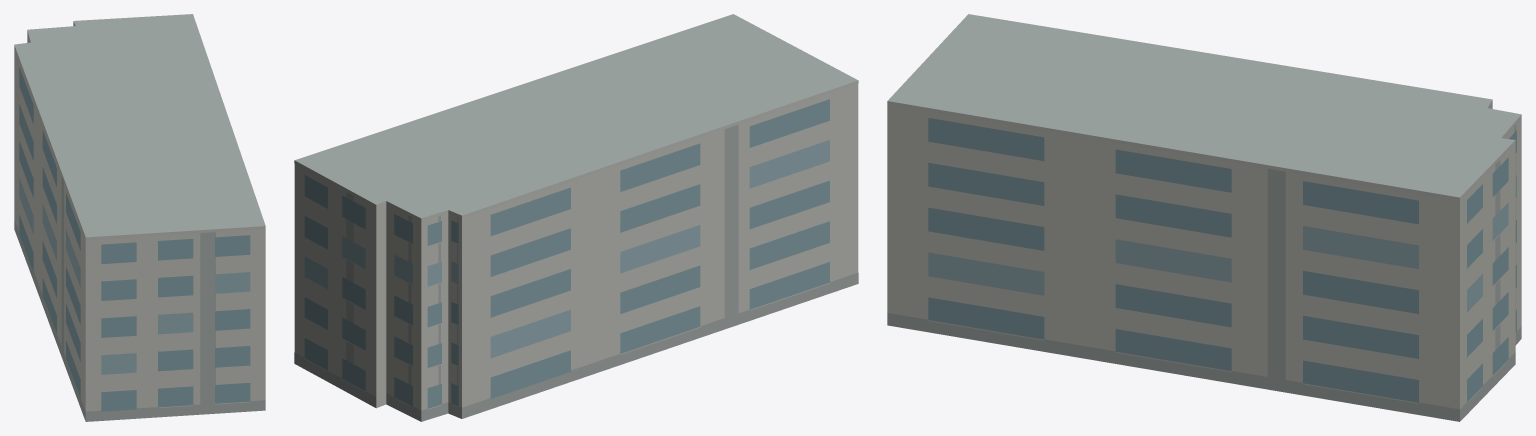
The model's file is survey-upis-32509685.glb.
The picture shows the model from 3 angles, left to right: view 1: azimuth 30°, elevation 25°; view 2: azimuth 150°, elevation 25°; view 3: azimuth 270°, elevation 25°; orthographic projection. The views are drawn at different scales.
Visible parts, largest first — view 1: survey-upis-32509685.tmp; view 2: survey-upis-32509685.tmp; view 3: survey-upis-32509685.tmp.
Part boxes in pixels (<box>): survey-upis-32509685.tmp: <box>14,14,265,421</box>; survey-upis-32509685.tmp: <box>294,14,858,421</box>; survey-upis-32509685.tmp: <box>887,14,1521,421</box>.
Size of the model in its own units: 26.76 by 15.25 by 39.08.
